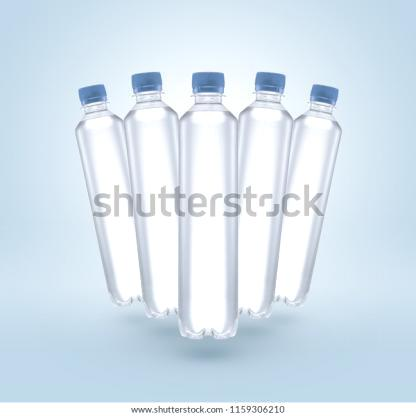bottle: (176, 69, 242, 348), (72, 82, 140, 306), (124, 68, 179, 324), (242, 53, 290, 324), (290, 80, 346, 304)
